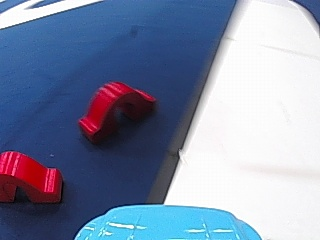bridge: (70, 77, 158, 145), (0, 149, 65, 205)
